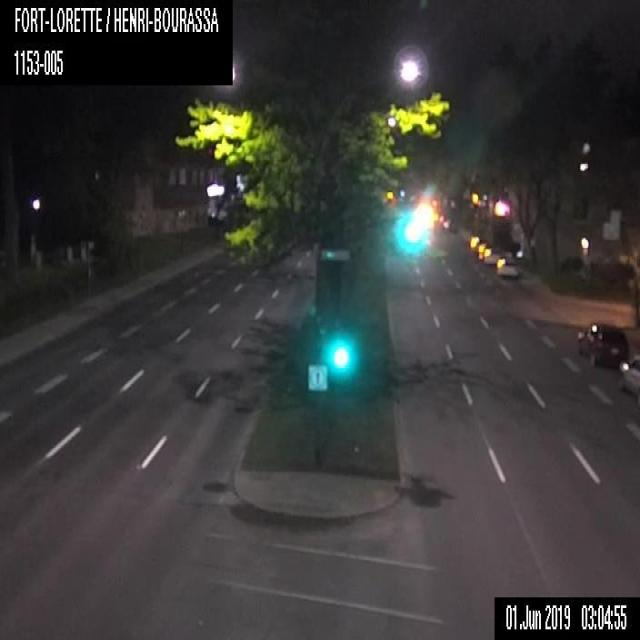vehicle: (576, 321, 628, 366), (617, 353, 639, 405), (479, 244, 512, 264), (496, 259, 519, 276)
